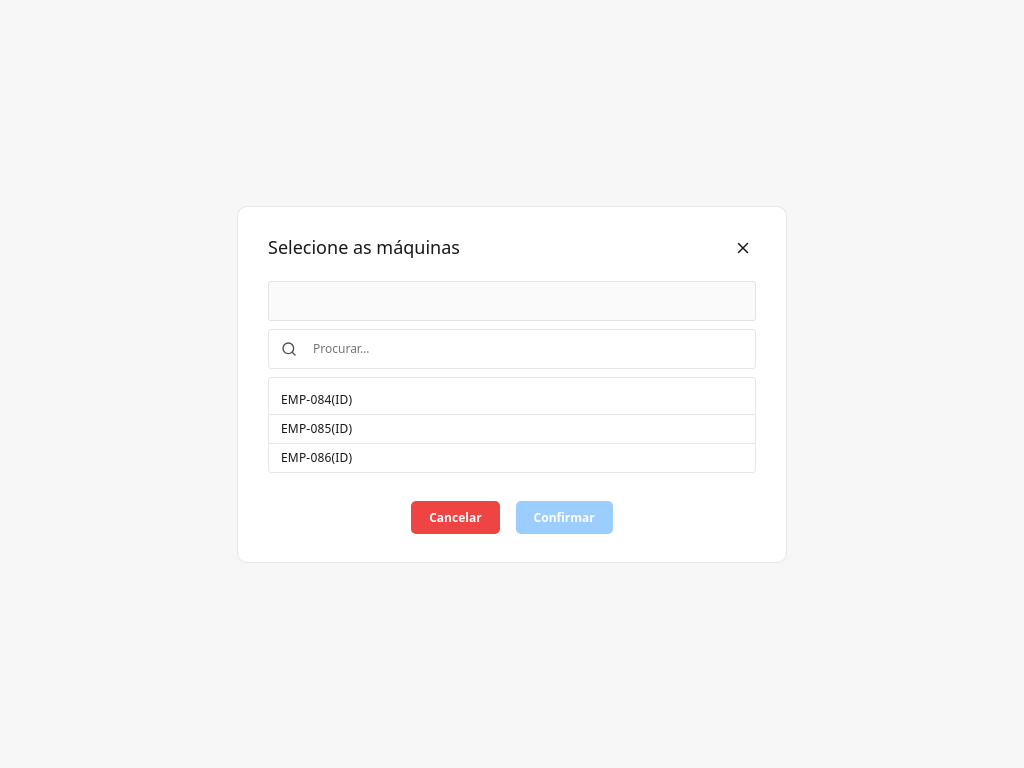
Test: MachinePickerModal › filters the list by code or name
The image size is (1024, 768).
Type "086" into the search field with placeholder "Procurar...".
click(527, 348); type("086")  # box [311,339,743,358]
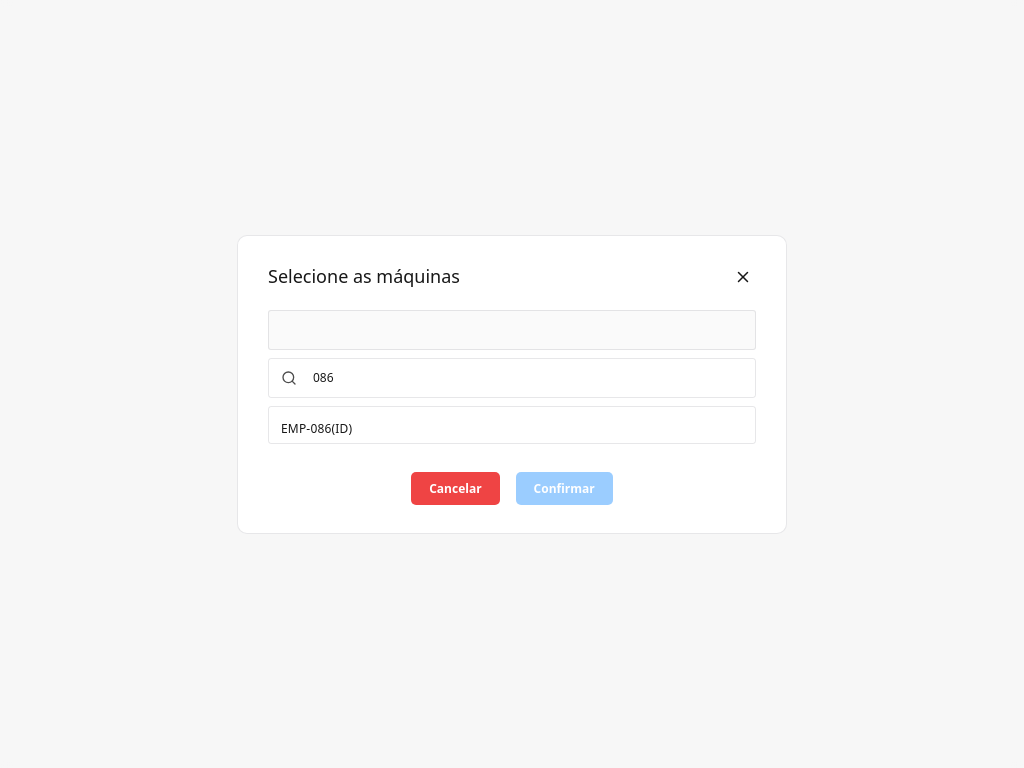
Check: the options read "EMP-086(ID)", in this order, box [281,420,352,437]
Replace the text in the search field with placeholder "Procurar..." with "atlas" at x=527, y=378, box [311,368,743,387]
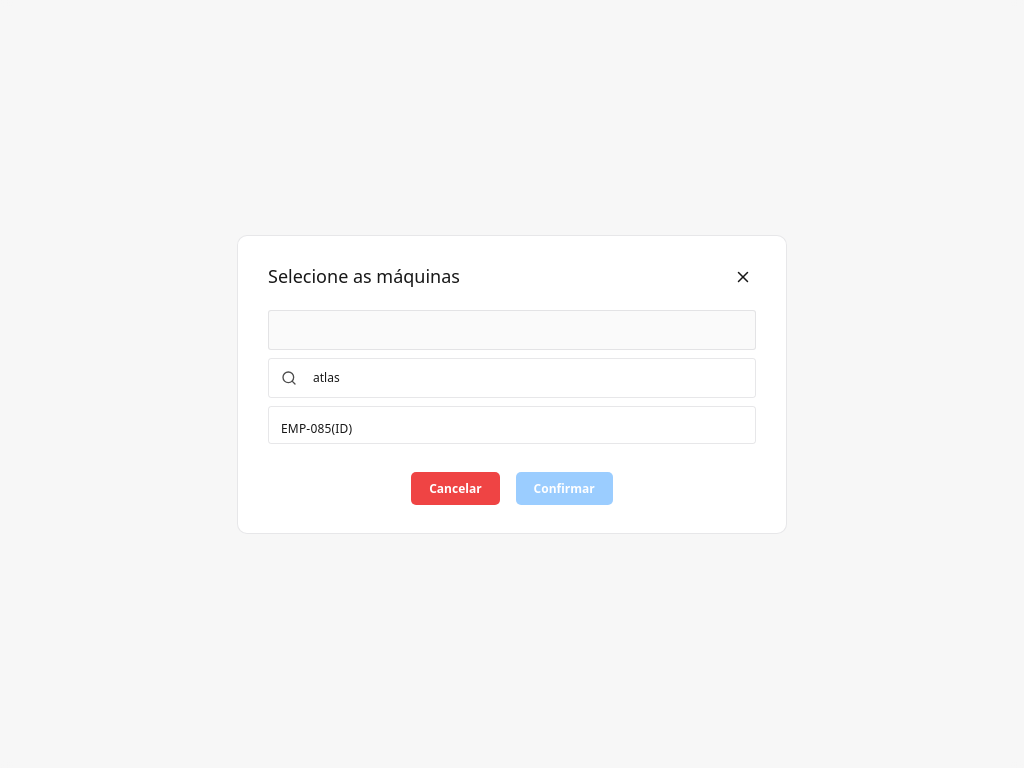
Check: the options read "EMP-085(ID)", in this order, box [281,420,352,437]
